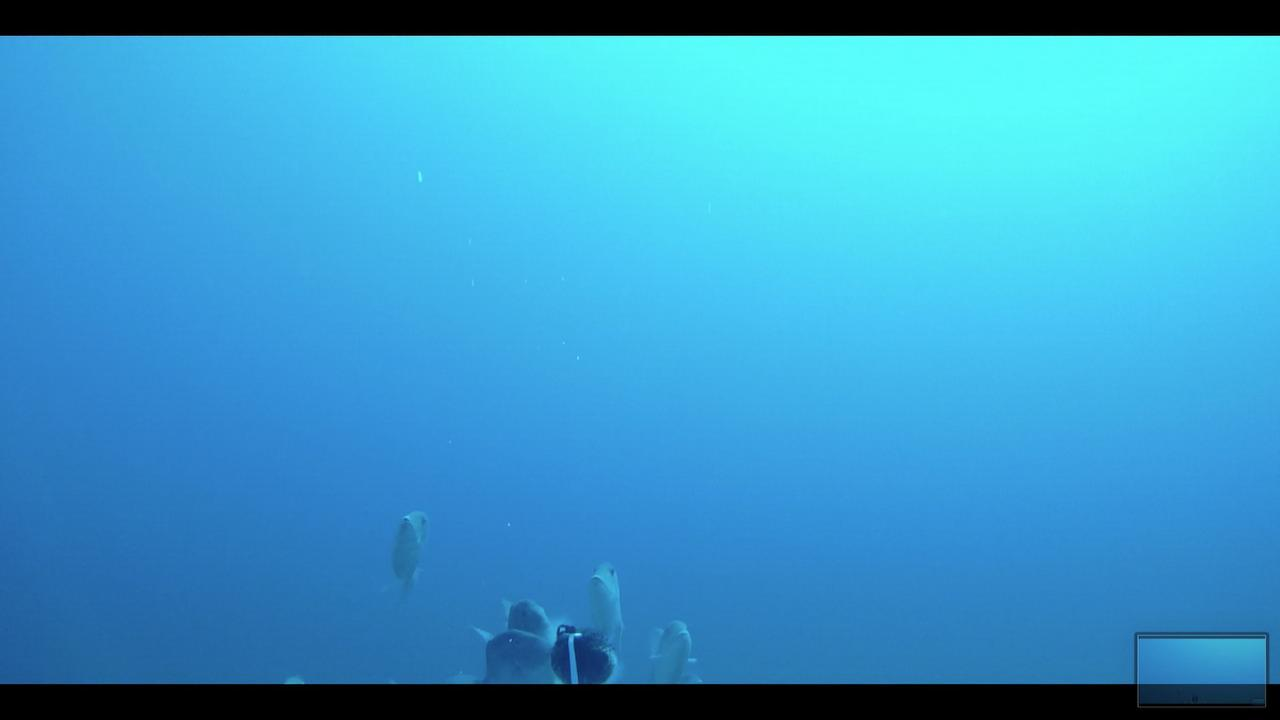balistes: (451, 623, 555, 682), (387, 505, 431, 613), (587, 556, 626, 654), (645, 617, 697, 684), (497, 595, 561, 647)
